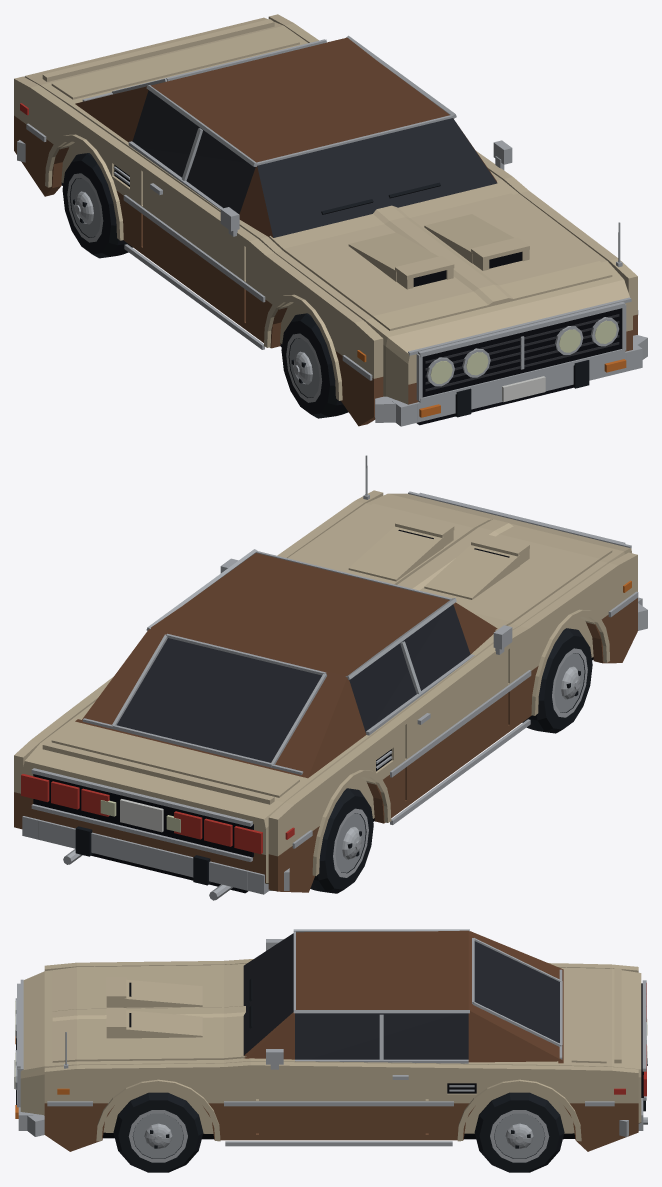
The model's file is muscle-car-60s-524d46-preview.glb.
3 views of the same model, one above another, from view 1: azimuth 30°, elevation 25°; view 2: azimuth 150°, elevation 25°; view 3: azimuth 270°, elevation 25° (orthographic). The views are drawn at different scales.
Visible parts, largest first — view 1: object 1, wheel-rl, wheel-fl; view 2: object 1, wheel-fl, wheel-rl; view 3: object 1, wheel-rr, wheel-fr.
Boxes of the visible parts, x1=… form: object 1: x1=14, y1=14, x2=647, y2=426; wheel-rl: x1=62, y1=153, x2=132, y2=258; wheel-fl: x1=281, y1=313, x2=348, y2=418; object 1: x1=14, y1=455, x2=647, y2=900; wheel-fl: x1=522, y1=628, x2=592, y2=733; wheel-rl: x1=310, y1=788, x2=373, y2=893; object 1: x1=14, y1=929, x2=647, y2=1151; wheel-rr: x1=474, y1=1092, x2=564, y2=1172; wheel-fr: x1=113, y1=1092, x2=203, y2=1172.
Size of the model in its own units: 2.01 by 1.27 by 4.74.
